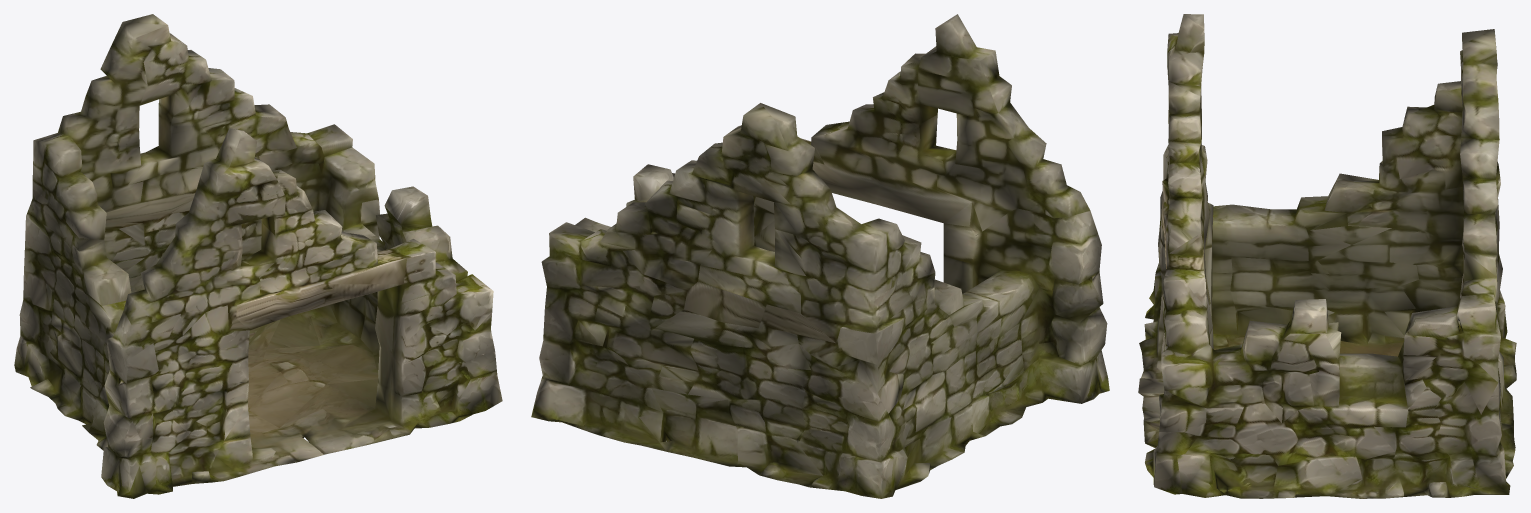
Rendered from land_barn.obj.
3 renders of one model, left to right at view 1: azimuth 30°, elevation 25°; view 2: azimuth 150°, elevation 25°; view 3: azimuth 270°, elevation 25°, orthographic. The views are drawn at different scales.
Parts seen in each view (by area): view 1: land_barn; view 2: land_barn; view 3: land_barn.
Part boxes in pixels (x1,y1,x2,y2): land_barn: [14, 14, 502, 498]; land_barn: [531, 14, 1109, 498]; land_barn: [1138, 14, 1516, 498].
Size of the model in its own units: 6.32 by 5 by 4.86.
Materials: 1 (1 with a texture image).
